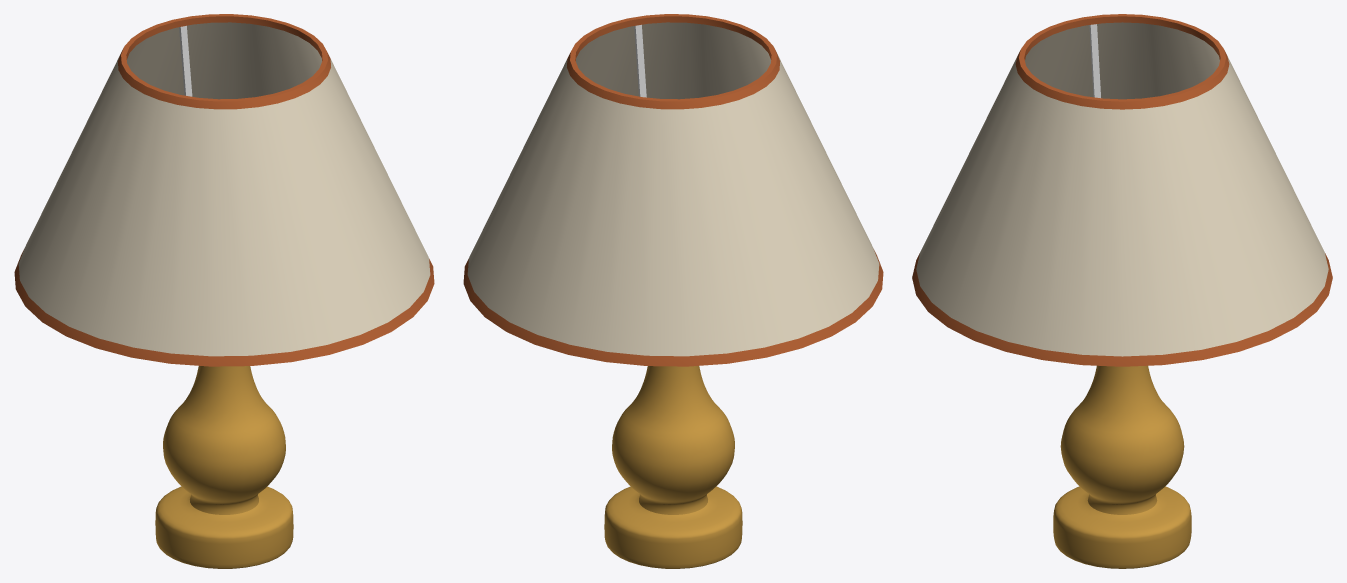
The model's file is sh_scopia_little_lamp1.glb.
3 views of the same model, side by side, from view 1: azimuth 30°, elevation 25°; view 2: azimuth 150°, elevation 25°; view 3: azimuth 270°, elevation 25° (orthographic).
Bounding box in the file's own units: 0.331 × 0.419 × 0.331.
